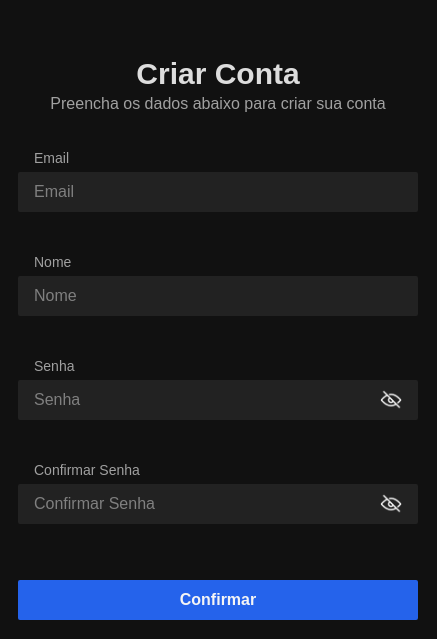
Test case: Create User Component › Should show a success notification
The width and height of the screenshot is (437, 639).
Step 1. Type "user01@email.com" into the field with placeholder "Email" → (218, 192), box [18,172,418,212]
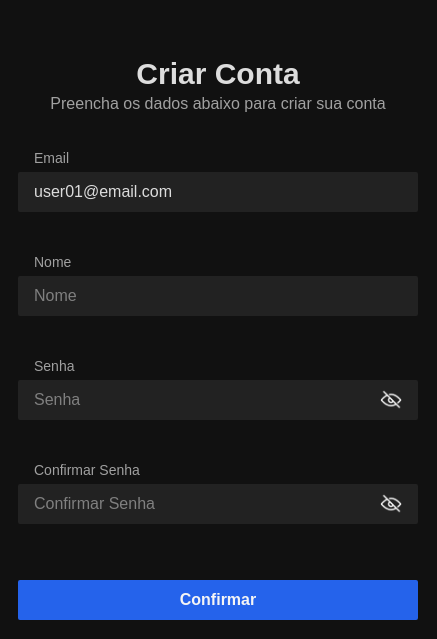
Step 2. Type "user01" into the field with placeholder "Nome" → (218, 296), box [18,276,418,316]
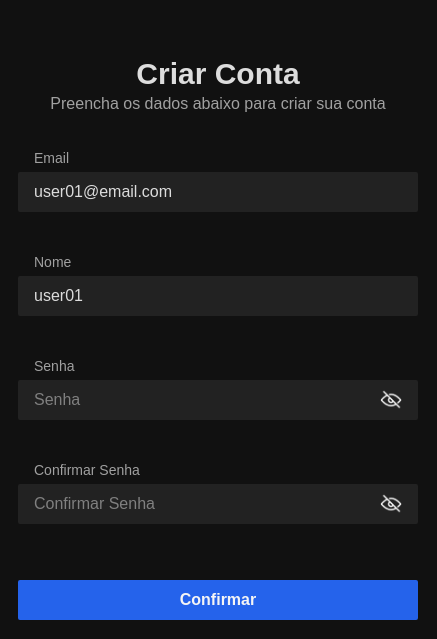
Step 3. Type "User1234" into the password field with placeholder "Senha" → (207, 400), box [34,388,380,412]
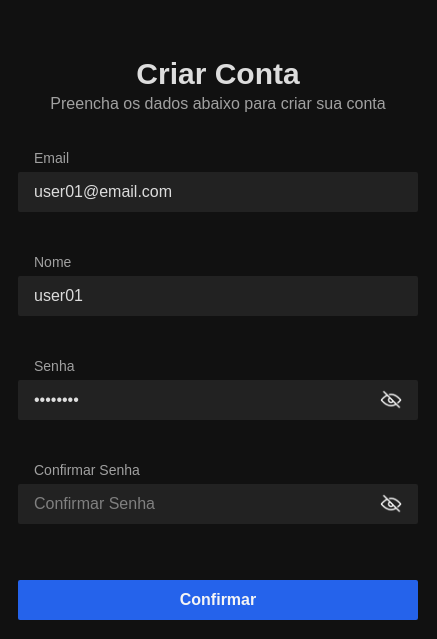
Step 4. Type "User1234" into the password field with placeholder "Confirmar Senha" → (207, 504), box [34,492,380,516]
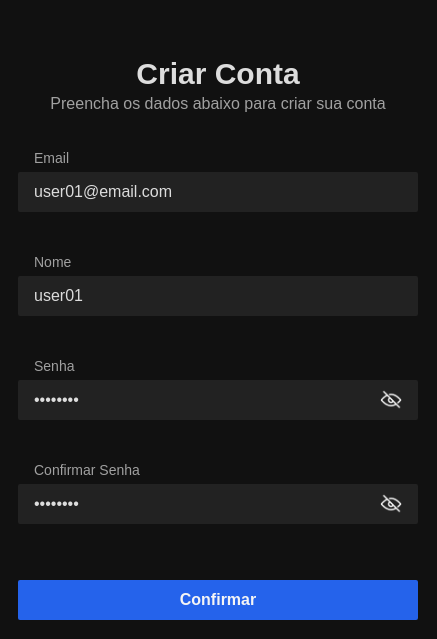
Step 5. Click the button "Confirmar" → (218, 600), box [18,580,418,620]
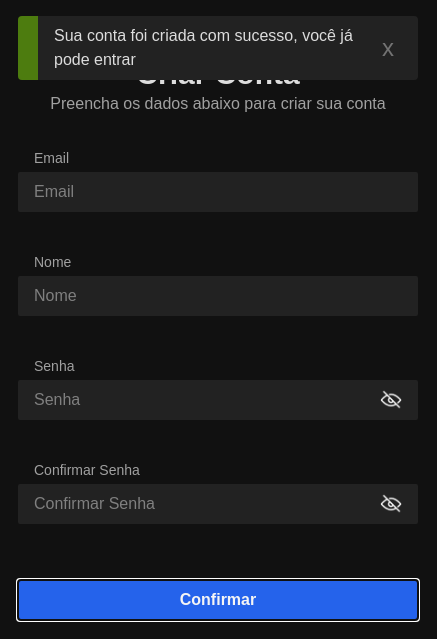
Expected: the text "Sua conta foi criada com sucesso, você já pode entrar" is shown, [54,24,374,72]
